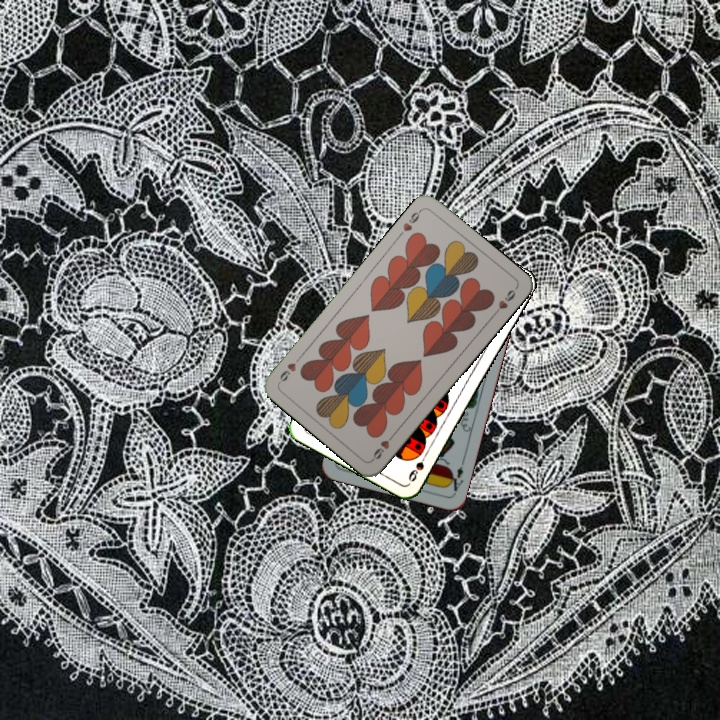EA: (444, 456, 467, 496)
H9: (368, 429, 398, 463), (399, 205, 424, 234)
S9: (404, 447, 431, 484)
